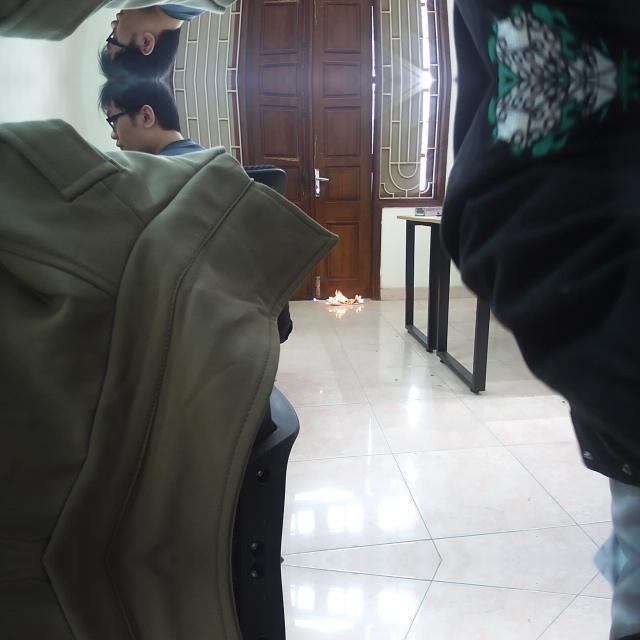smoke: (323, 286, 362, 304)
